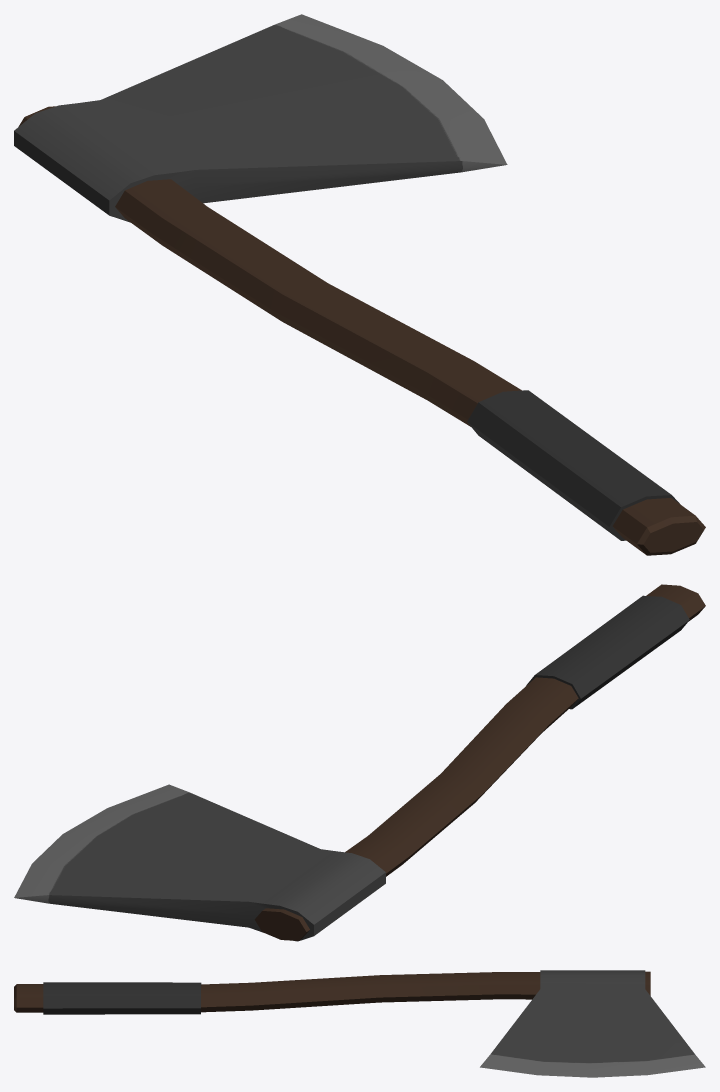
File: Axe.fbx
3 views of the same model, one above another, from view 1: azimuth 30°, elevation 25°; view 2: azimuth 150°, elevation 25°; view 3: azimuth 270°, elevation 25° (orthographic). The views are drawn at different scales.
Visible parts, largest first — view 1: Cube.001; view 2: Cube.001; view 3: Cube.001.
Part boxes in pixels (left/top/right/bottom): Cube.001: left=14, top=14, right=705, bottom=555; Cube.001: left=14, top=584, right=705, bottom=941; Cube.001: left=14, top=970, right=705, bottom=1077.
Bounding box in the file's own units: 39.75 × 4.37 × 114.
